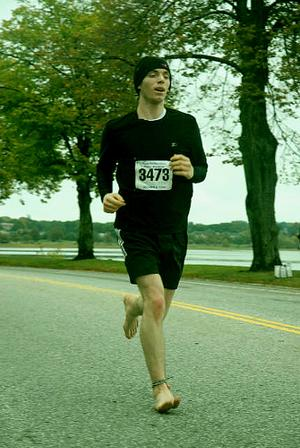person: (97, 56, 210, 415)
